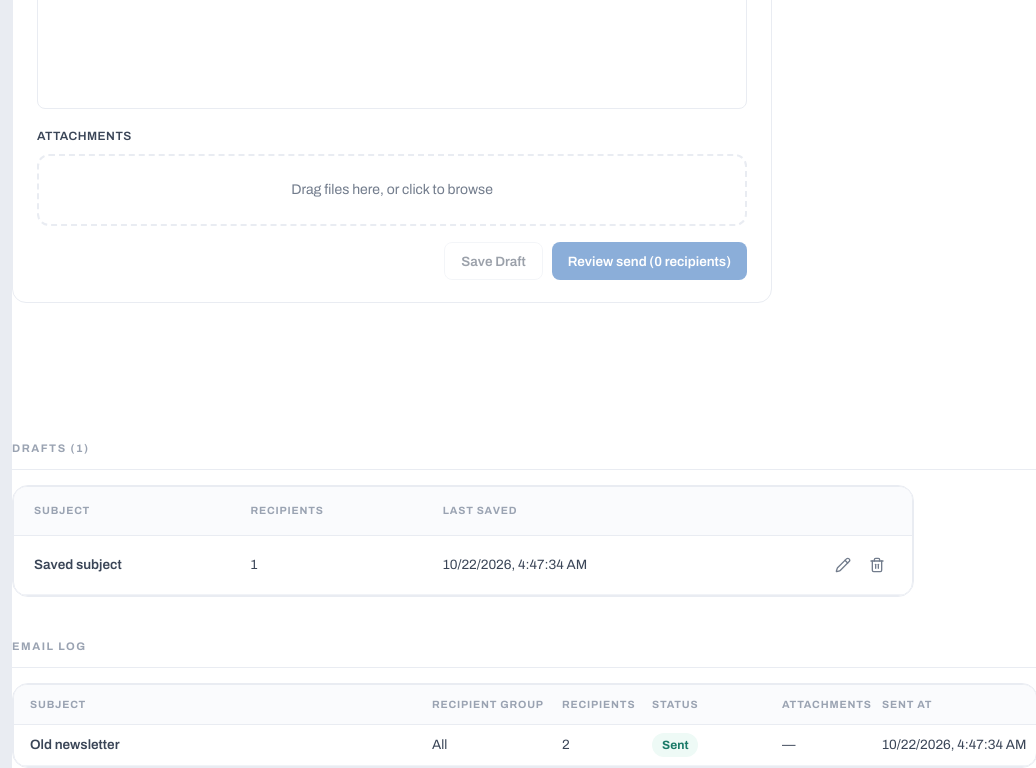
it: MembersEmail › Drafts (Story 16.19) › shows saved drafts, and loads one into the compose form on Edit
(page scrolled)
Expected: the text "Saved subject" is shown, [14, 536, 230, 595]
What coordinates should you click on to do the following:
click the button named "Edit draft"
I would click on:
 (843, 565)
Its box is [828, 550, 858, 580].
(page scrolled)
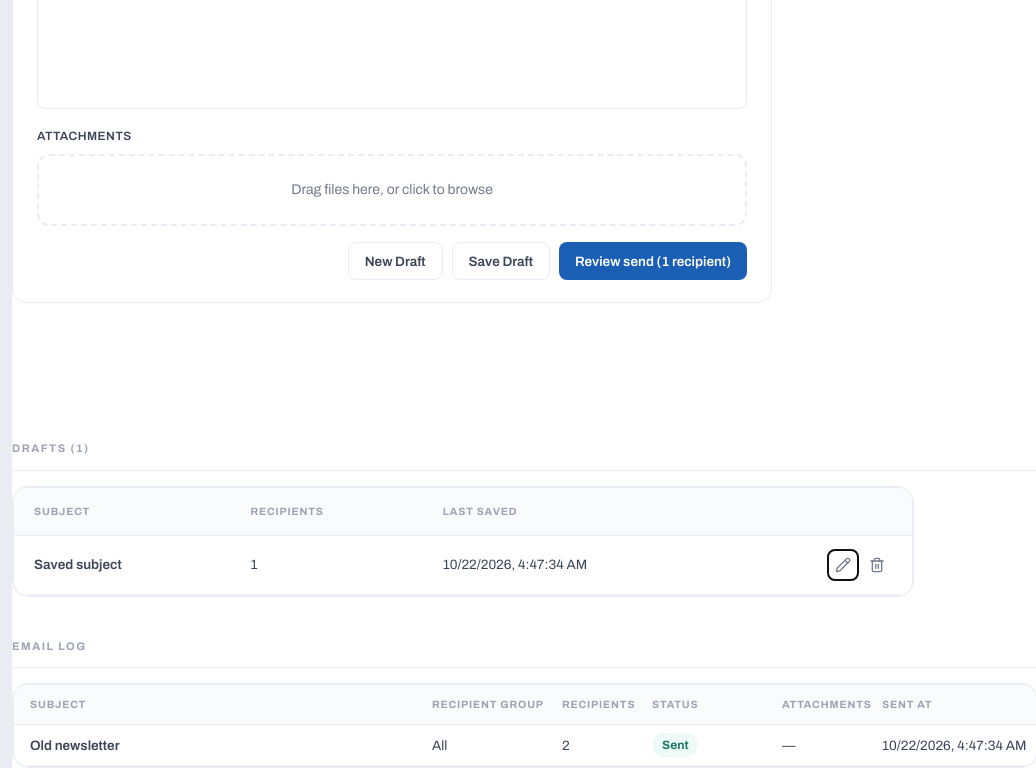
Now the button "Review send (1 recipient)" is shown, box [559, 242, 747, 280]
